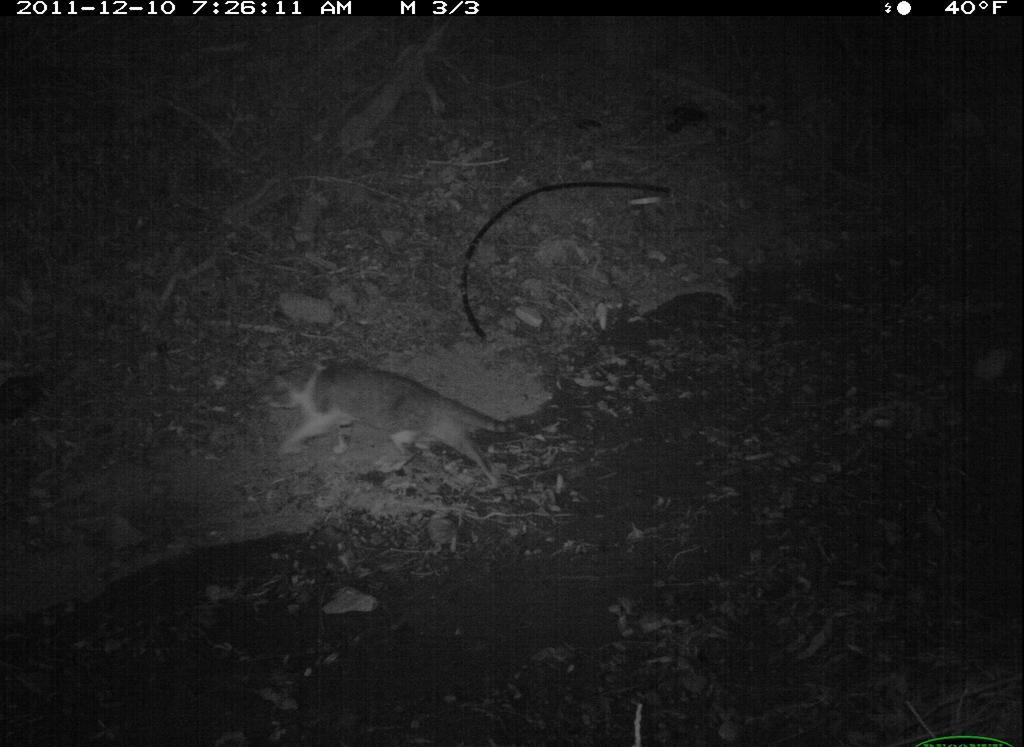cat: (268, 351, 529, 500)
